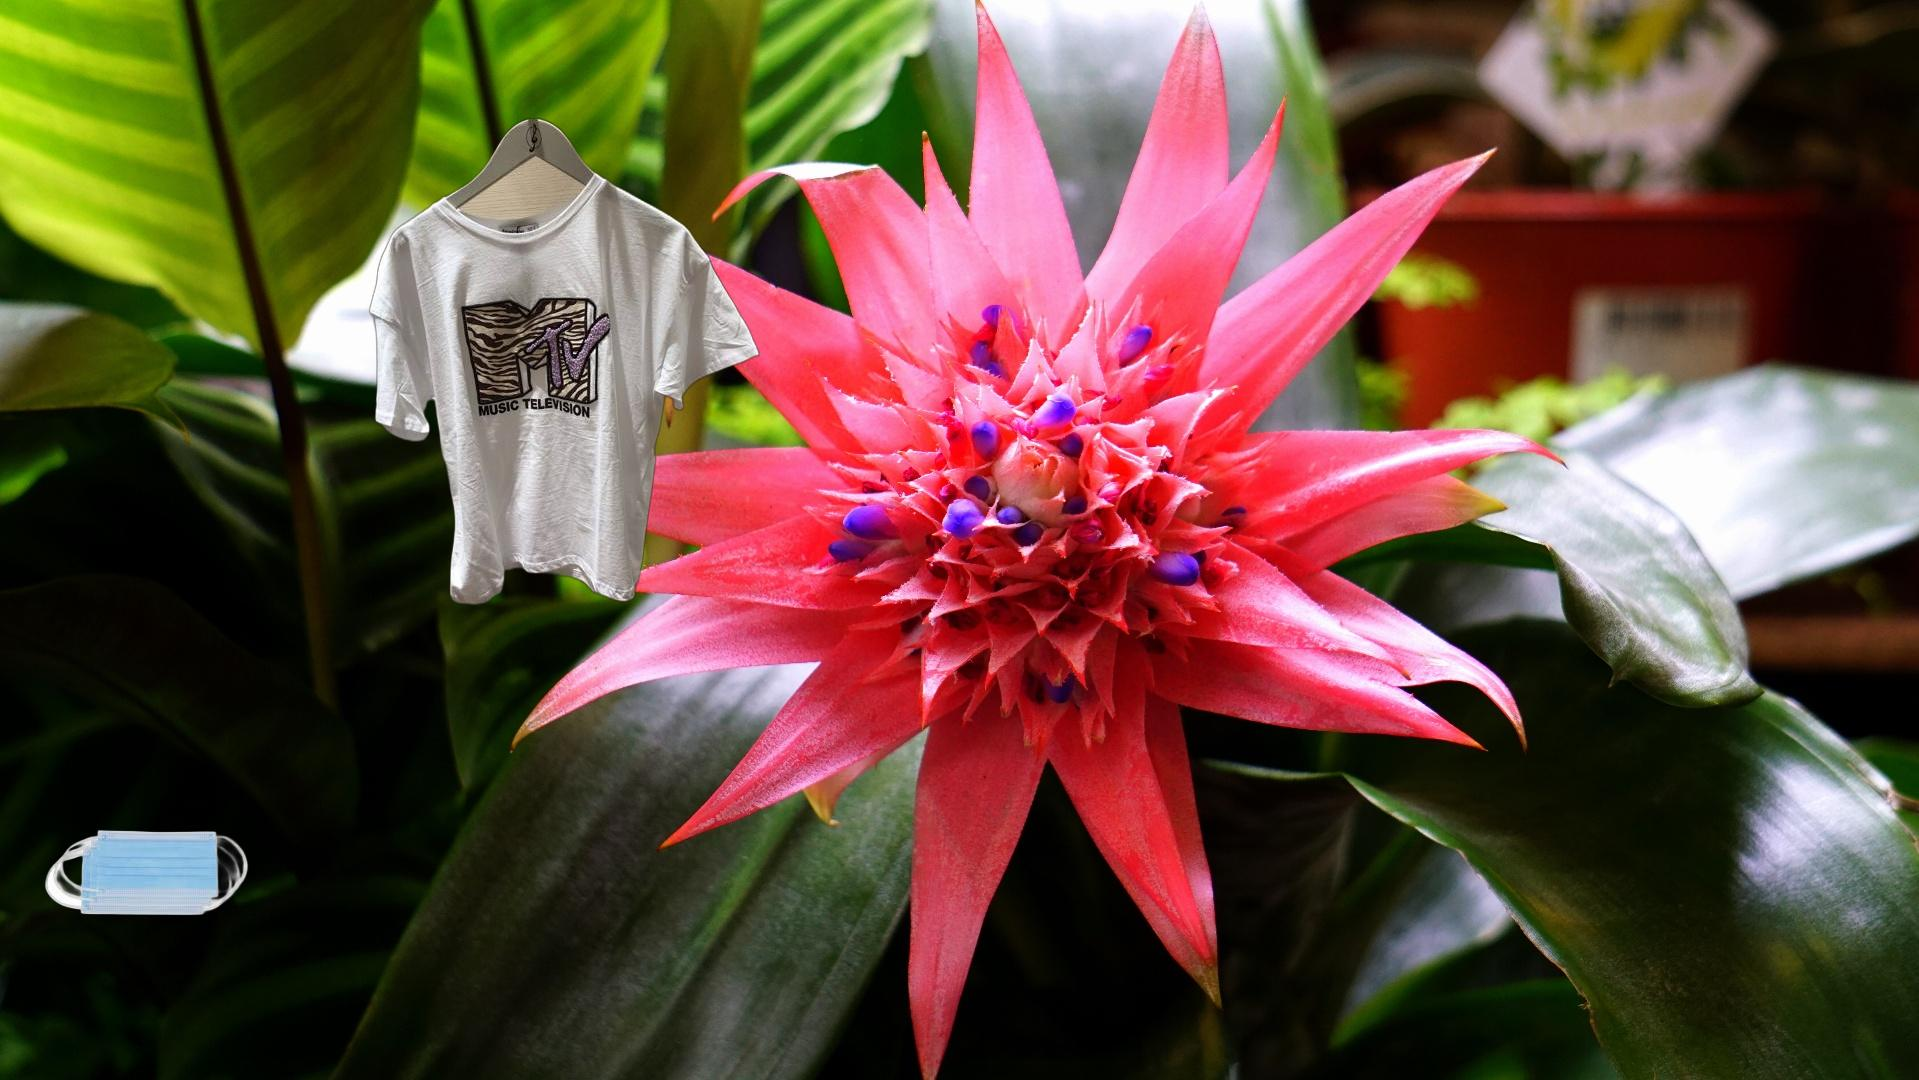clothes: (360, 87, 760, 611)
trash: (42, 827, 250, 918)
